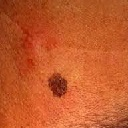Melanoma: (47, 71, 71, 98)
